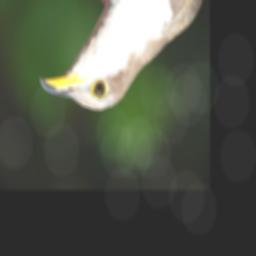Cuckoo: (40, 0, 210, 112)
